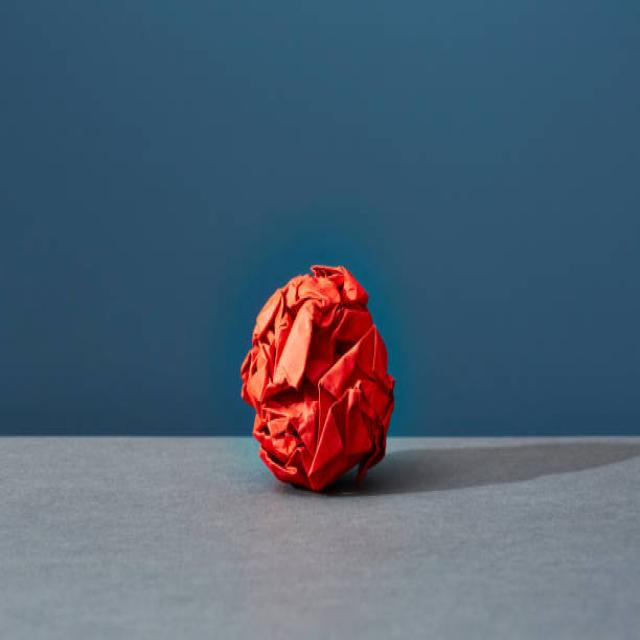electronic: (240, 262, 396, 491)
